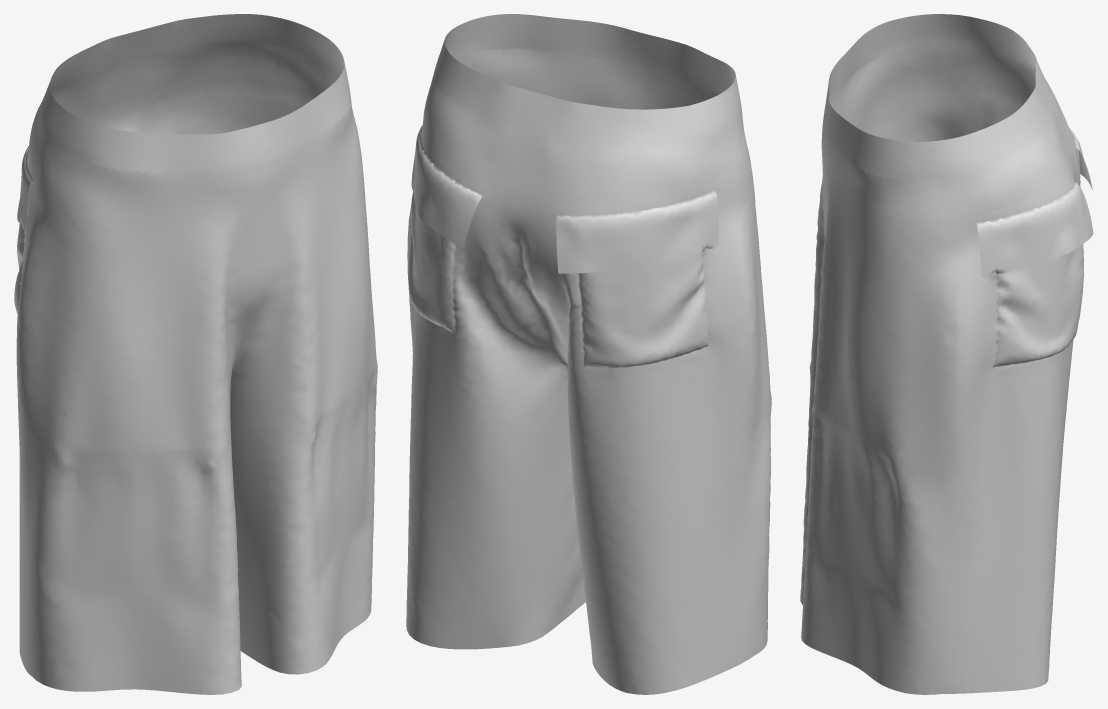
File: Shorts.fbx
3 renders of one model, left to right at view 1: azimuth 30°, elevation 25°; view 2: azimuth 150°, elevation 25°; view 3: azimuth 270°, elevation 25°, orthographic. The views are drawn at different scales.
Visible parts, largest first — view 1: Shorts; view 2: Shorts; view 3: Shorts.
Part boxes in pixels (x1,y1,x2,y2): Shorts: [14, 14, 377, 694]; Shorts: [406, 14, 771, 694]; Shorts: [800, 14, 1093, 694].
Bounding box in the file's own units: 39.05 × 63.86 × 30.12.
